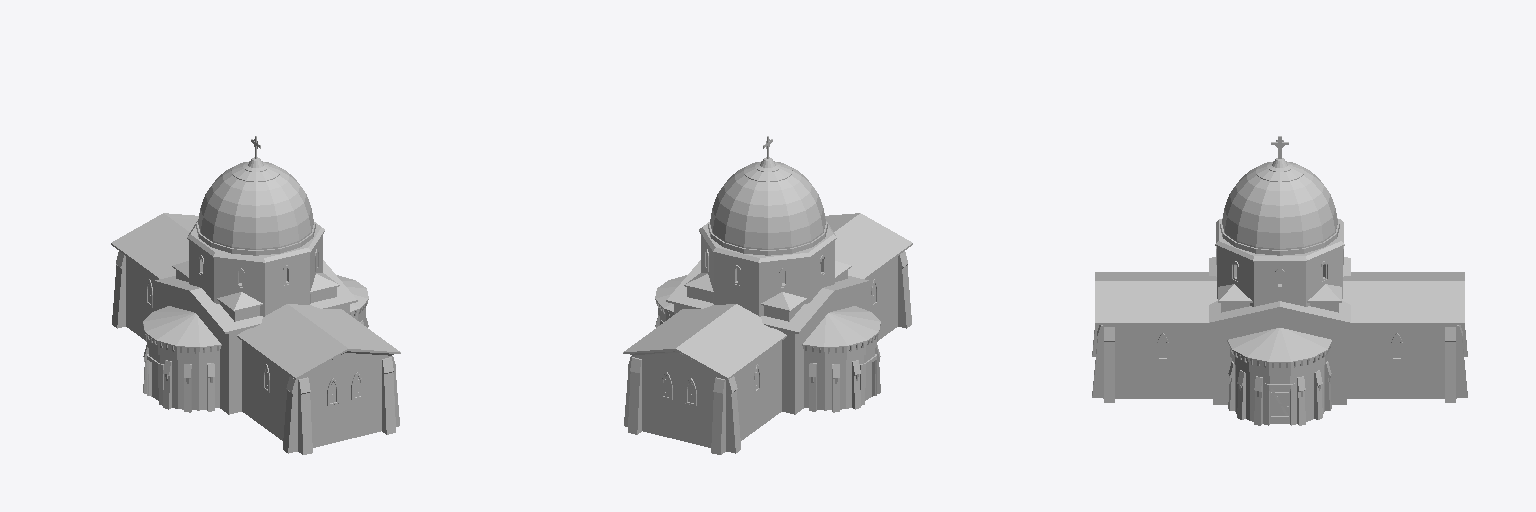
The model's file is church.obj.
3 views of the same model, side by side, from view 1: azimuth 30°, elevation 25°; view 2: azimuth 150°, elevation 25°; view 3: azimuth 270°, elevation 25° (orthographic).
Visible parts, largest first — view 1: Church; view 2: Church; view 3: Church.
Boxes of the visible parts, x1,y1,x2,y2 form: Church: [111, 136, 400, 454]; Church: [623, 136, 912, 454]; Church: [1092, 136, 1467, 425].
Bounding box in the file's own units: 14.22 × 15.43 × 21.91.